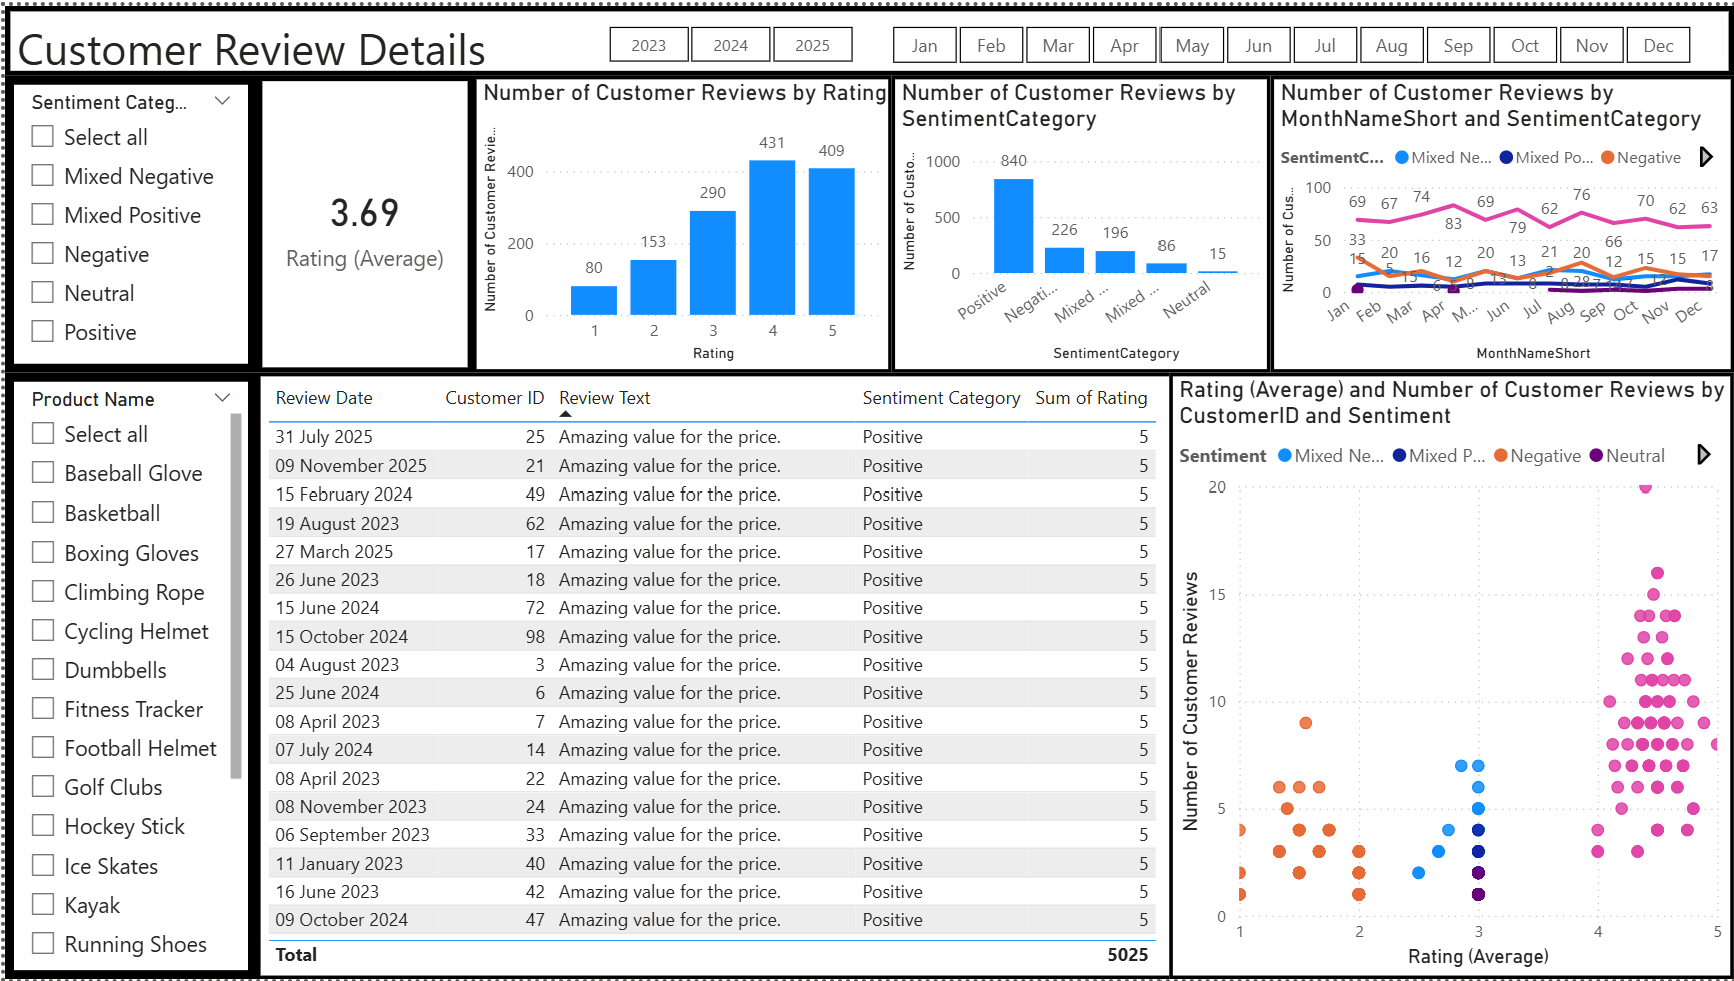

Layout of this report page (visuals, bound fields, positions):
{"tool":"powerbi","page":{"name":"Customer Review ","canvas":[1280,720],"ordinal":3},"visuals":[{"type":"textbox","box":[0,0,1280,52],"z":0},{"type":"slicer","fields":{"Values":["dim_products.ProductName"]},"box":[0,271.7,186.7,448.3],"z":1000},{"type":"slicer","fields":{"Values":["Calendar.Year"]},"box":[421.7,8.3,230,36.7],"z":2000},{"type":"slicer","fields":{"Values":["Calendar.MonthNameShort"]},"box":[632.2,7.8,640,36.7],"z":3000},{"type":"card","fields":{"Values":["_Calculations.Rating (Average)"]},"box":[186.7,51.7,160,220],"z":4000},{"type":"clusteredColumnChart","fields":{"Y":["_Calculations.Number of Customer Reviews"],"Category":["fact_customer_reviews_with_sentiment.Rating"]},"box":[346.7,51.7,310,220],"z":5000},{"type":"clusteredColumnChart","fields":{"Y":["_Calculations.Number of Customer Reviews"],"Category":["fact_customer_reviews_with_sentiment.SentimentCategory"]},"box":[656.7,51.7,280,220],"z":6000},{"type":"lineChart","fields":{"Category":["Calendar.MonthNameShort"],"Y":["_Calculations.Number of Customer Reviews"],"Series":["fact_customer_reviews_with_sentiment.SentimentCategory"]},"box":[936.7,51.7,343.3,220],"z":7000},{"type":"tableEx","fields":{"Values":["fact_customer_reviews_with_sentiment.ReviewDate","fact_customer_reviews_with_sentiment.CustomerID","fact_customer_reviews_with_sentiment.ReviewText","fact_customer_reviews_with_sentiment.SentimentCategory","Sum(fact_customer_reviews_with_sentiment.Rating)"]},"box":[186.7,271.7,698.3,448.3],"z":8000},{"type":"scatterChart","fields":{"X":["_Calculations.Rating (Average)"],"Y":["_Calculations.Number of Customer Reviews"],"Category":["dim_customers.CustomerID"],"Series":["fact_customer_reviews_with_sentiment.SentimentCategory"]},"box":[861.7,271.7,418.3,448.3],"z":8001},{"type":"slicer","fields":{"Values":["fact_customer_reviews_with_sentiment.SentimentCategory"]},"box":[0,51.7,186.7,220],"z":8002}]}

Visuals, with their boxes in screenshot pixels (x1, y1, x2, y2), scaled from the page's 1280x720 canvas onto the 1734x981 screenshot:
textbox: pyautogui.locateOnScreen(0, 0, 1733, 71)
slicer - dim_products.ProductName: pyautogui.locateOnScreen(0, 370, 253, 980)
slicer - Calendar.Year: pyautogui.locateOnScreen(571, 11, 883, 61)
slicer - Calendar.MonthNameShort: pyautogui.locateOnScreen(856, 11, 1723, 61)
card - _Calculations.Rating (Average): pyautogui.locateOnScreen(253, 70, 470, 370)
clusteredColumnChart - _Calculations.Number of Customer Reviews x fact_customer_reviews_with_sentiment.Rating: pyautogui.locateOnScreen(470, 70, 890, 370)
clusteredColumnChart - _Calculations.Number of Customer Reviews x fact_customer_reviews_with_sentiment.SentimentCategory: pyautogui.locateOnScreen(890, 70, 1269, 370)
lineChart - Calendar.MonthNameShort x _Calculations.Number of Customer Reviews: pyautogui.locateOnScreen(1269, 70, 1733, 370)
tableEx - fact_customer_reviews_with_sentiment.ReviewDate x fact_customer_reviews_with_sentiment.CustomerID: pyautogui.locateOnScreen(253, 370, 1199, 980)
scatterChart - _Calculations.Rating (Average) x _Calculations.Number of Customer Reviews: pyautogui.locateOnScreen(1167, 370, 1733, 980)
slicer - fact_customer_reviews_with_sentiment.SentimentCategory: pyautogui.locateOnScreen(0, 70, 253, 370)
